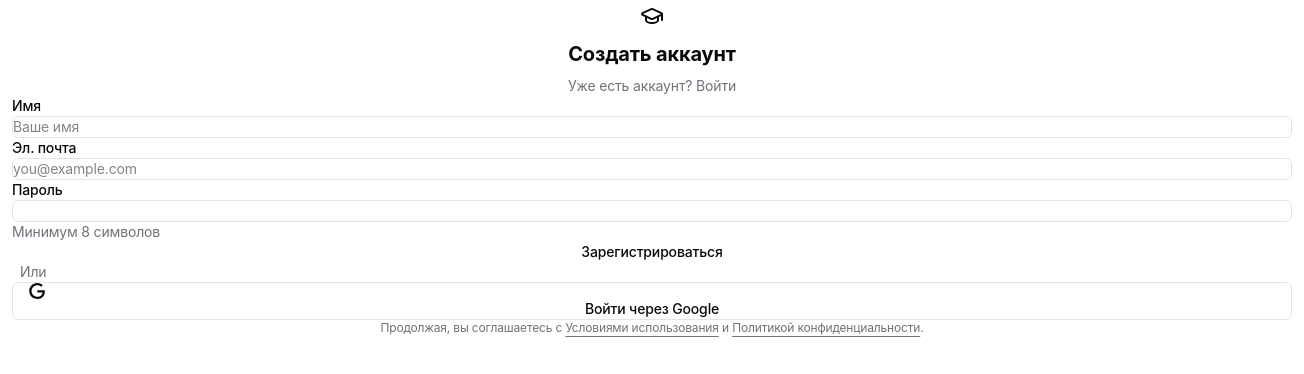
Scenario: SignupForm › shows API error and does not redirect when sign up fails
This screenshot has width=1304, height=374.
In the field labelled "Имя": (652, 127) [12,116,1292,138], type "Alice"
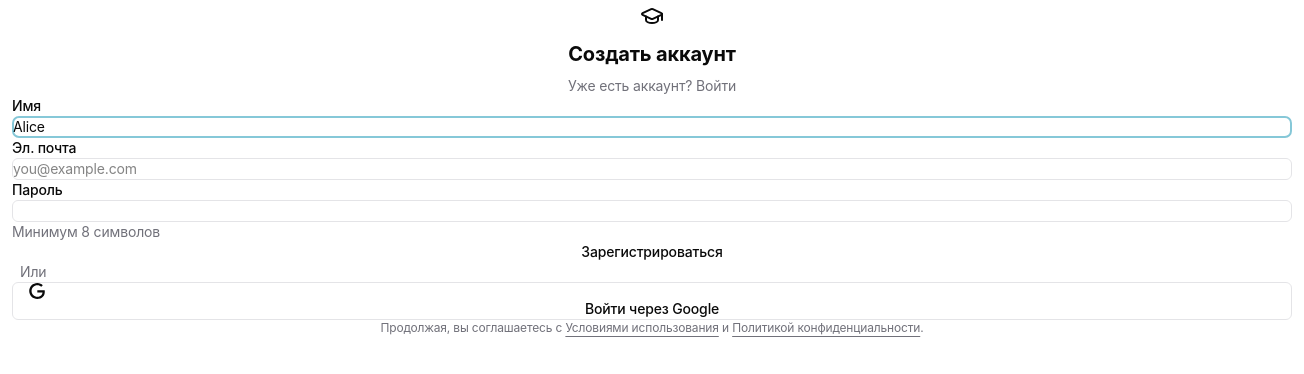
In the field labelled "Эл. почта": (652, 169) [12,158,1292,180], type "alice@example.com"
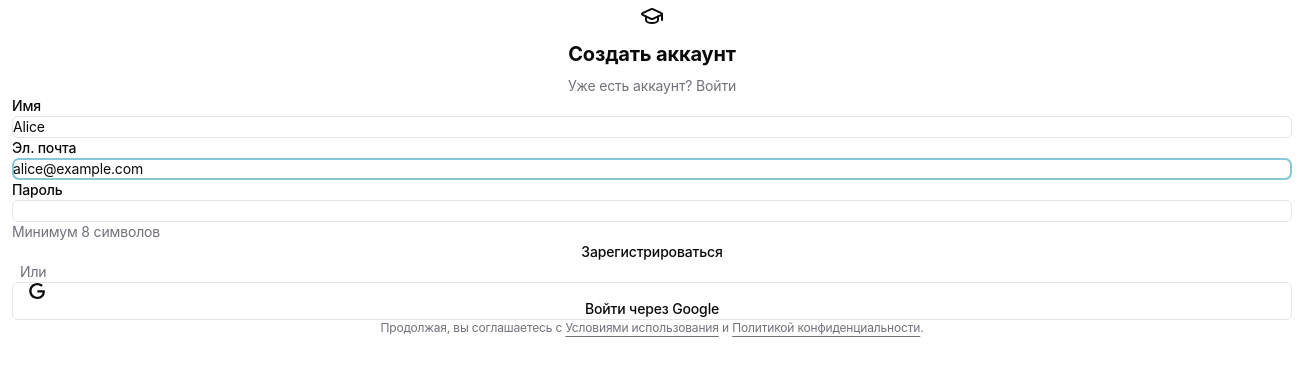
In the password field labelled "Пароль": (652, 211) [12,200,1292,222], type "securePassword123"
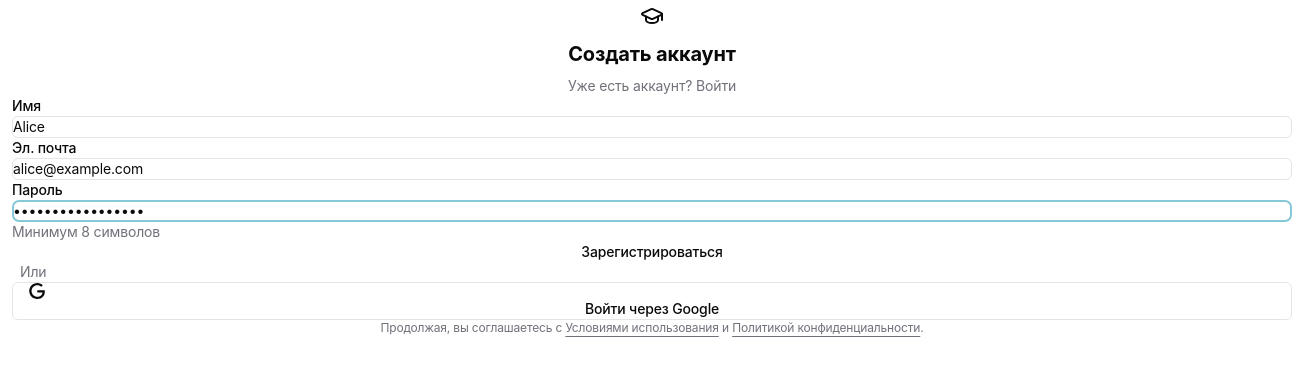
Click the button "Зарегистрироваться": click(652, 252) [12,242,1292,262]
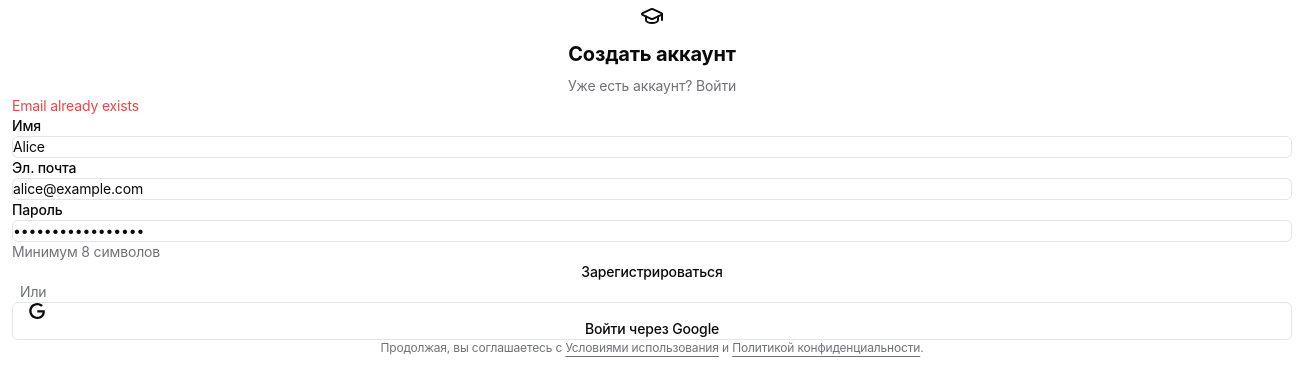
Expected: the text "Email already exists" is shown, [12,97,139,114]
